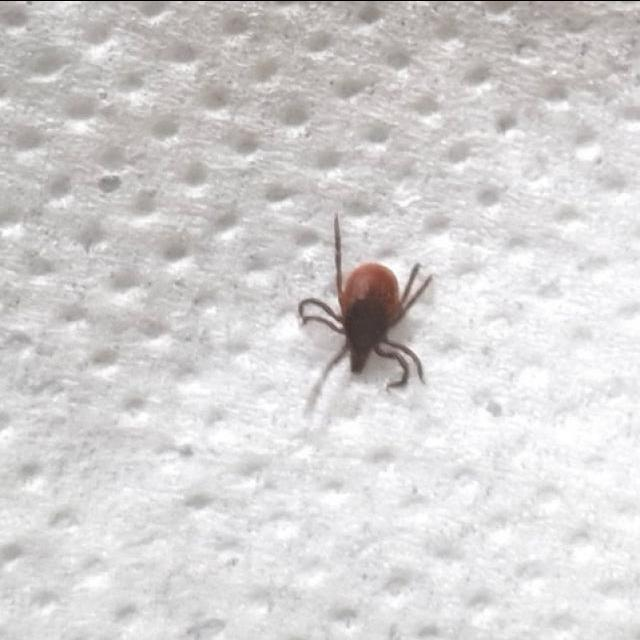Ixodes Ricinus-F: (297, 216, 430, 390)
